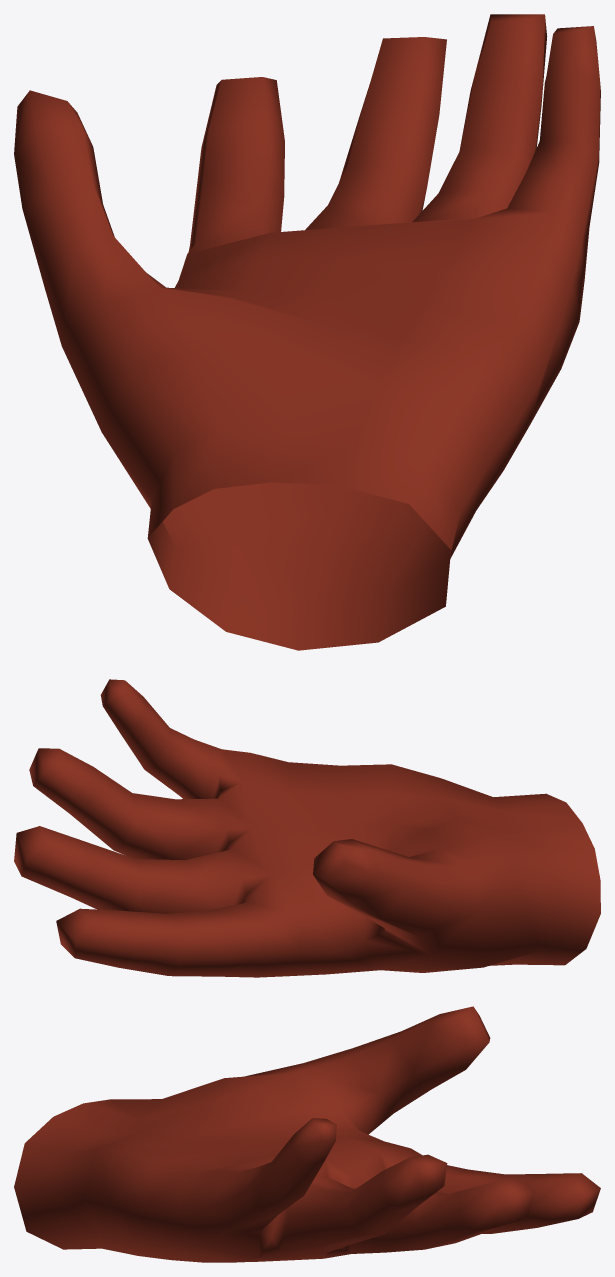
The model's file is hand.obj.
3 renders of one model, top to bottom at view 1: azimuth 30°, elevation 25°; view 2: azimuth 150°, elevation 25°; view 3: azimuth 270°, elevation 25°, orthographic. The views are drawn at different scales.
Parts seen in each view (by area): view 1: Object_2.004; view 2: Object_2.004; view 3: Object_2.004.
Part boxes in pixels (x1,y1,x2,y2): Object_2.004: (14,14,600,650); Object_2.004: (14,679,600,977); Object_2.004: (14,1006,600,1262).
Size of the model in its own units: 0.0772 by 0.0487 by 0.0966.
